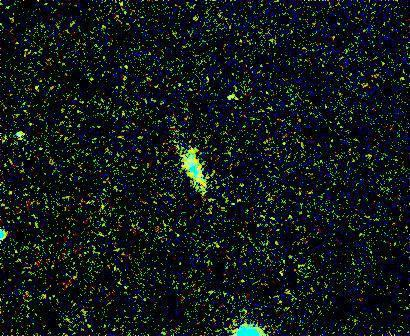star: (219, 77, 249, 107)
